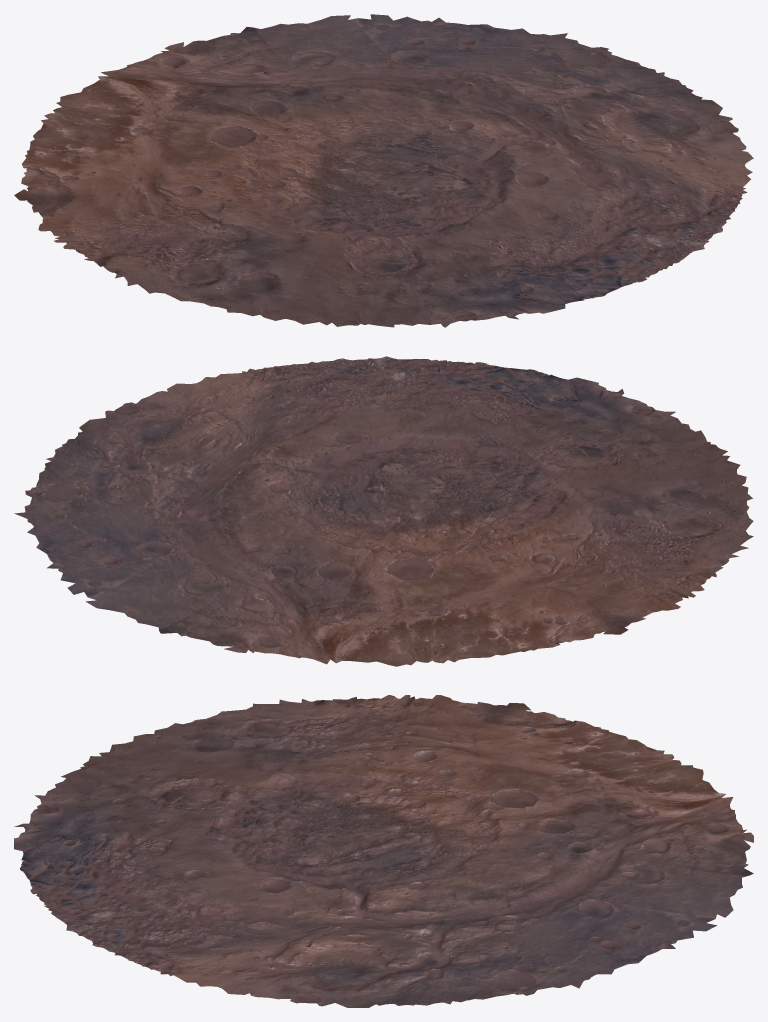
Rendered from mars_-_aram_chaos_region.glb.
3 renders of one model, top to bottom at view 1: azimuth 30°, elevation 25°; view 2: azimuth 150°, elevation 25°; view 3: azimuth 270°, elevation 25°, orthographic.
Parts seen in each view (by area): view 1: LP; view 2: LP; view 3: LP.
Boxes of the visible parts, bbox=[...] form: LP: bbox=[14, 14, 753, 327]; LP: bbox=[14, 356, 753, 666]; LP: bbox=[14, 695, 753, 1007].
Bounding box in the file's own units: 7497 × 143 × 7495.
1 material, 1 textured.
